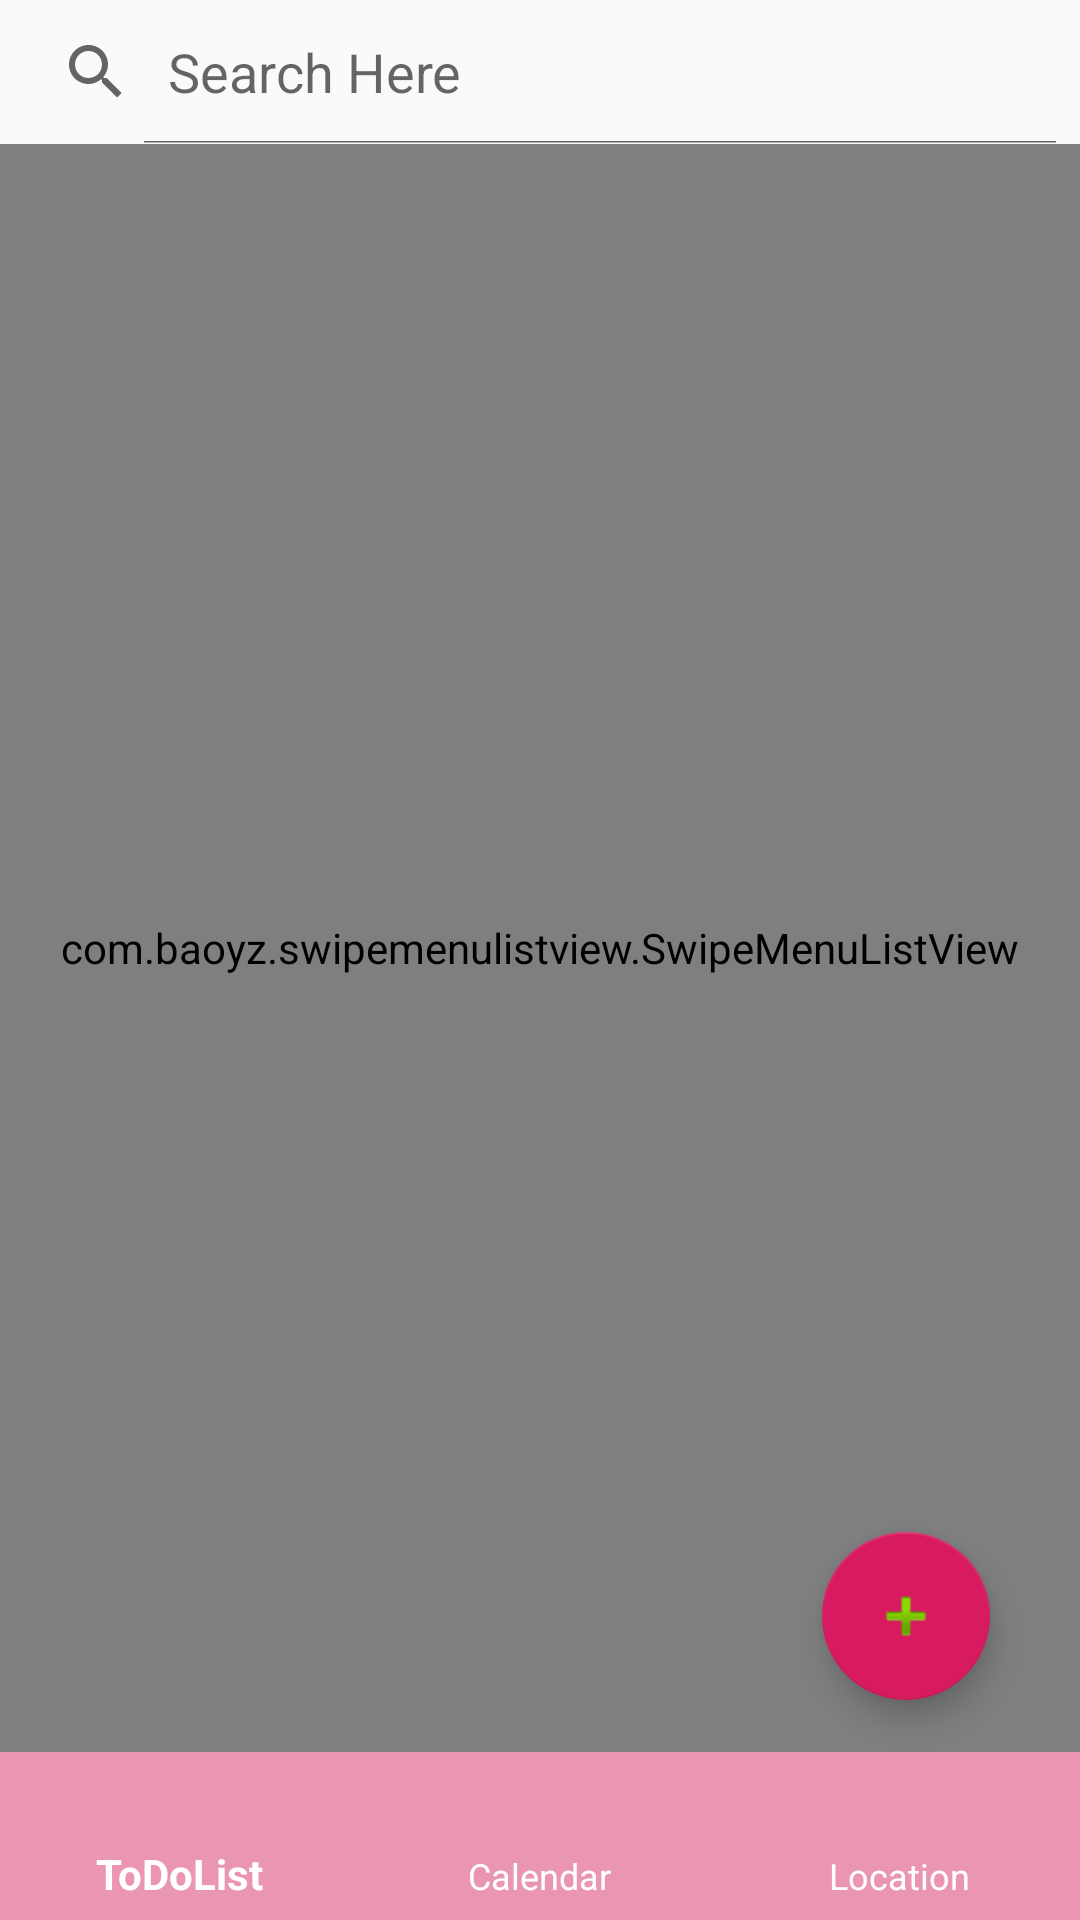

Named icons in this screenshot (1080px x 1920px) and their bounding boxes, [x1=x1, y1=y1, x2=x2, y2=y2]:
add: [x1=822, y1=1532, x2=990, y2=1700]
